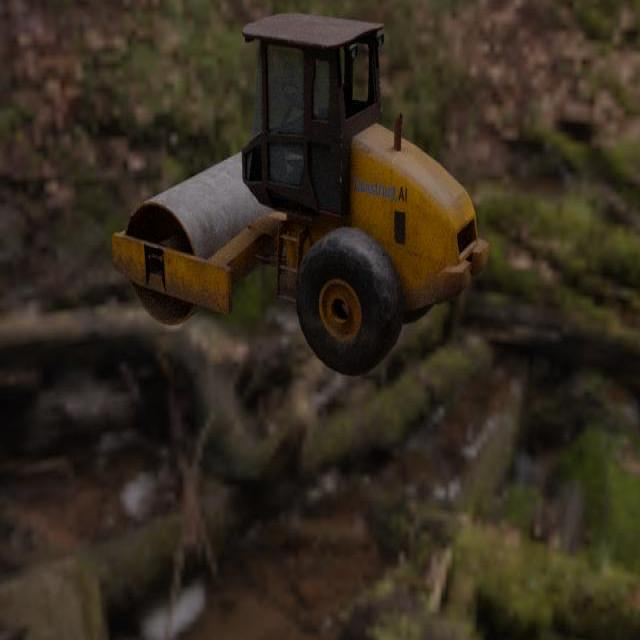Roller: (111, 12, 489, 376)
